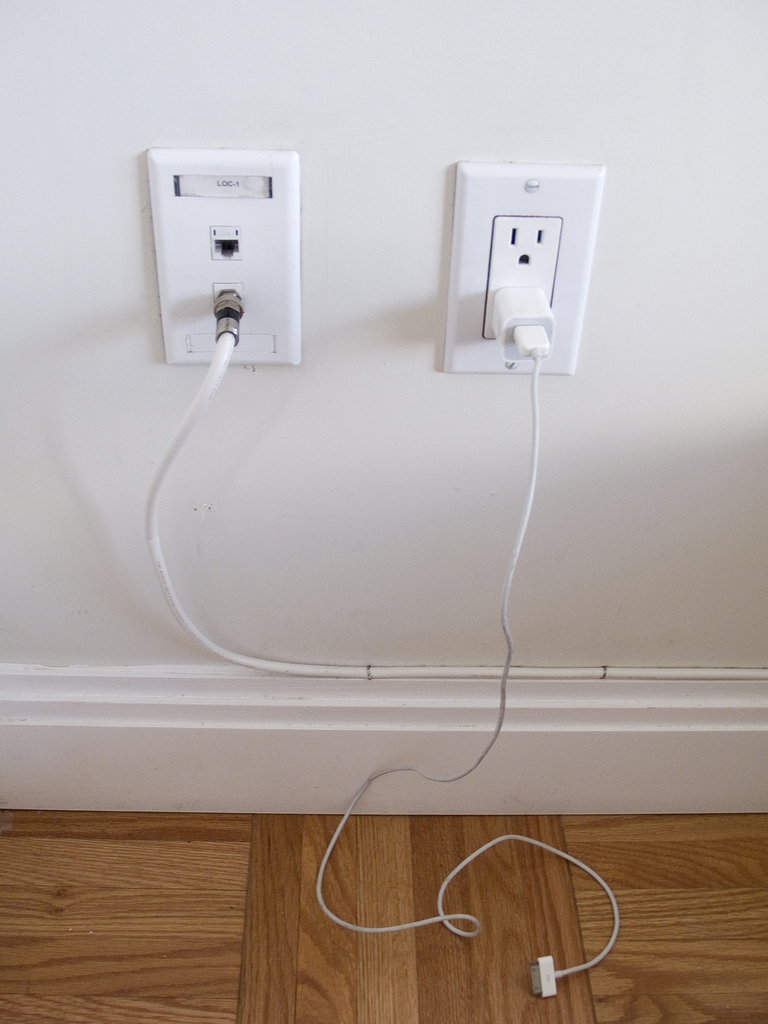outlet: (503, 223, 553, 272)
